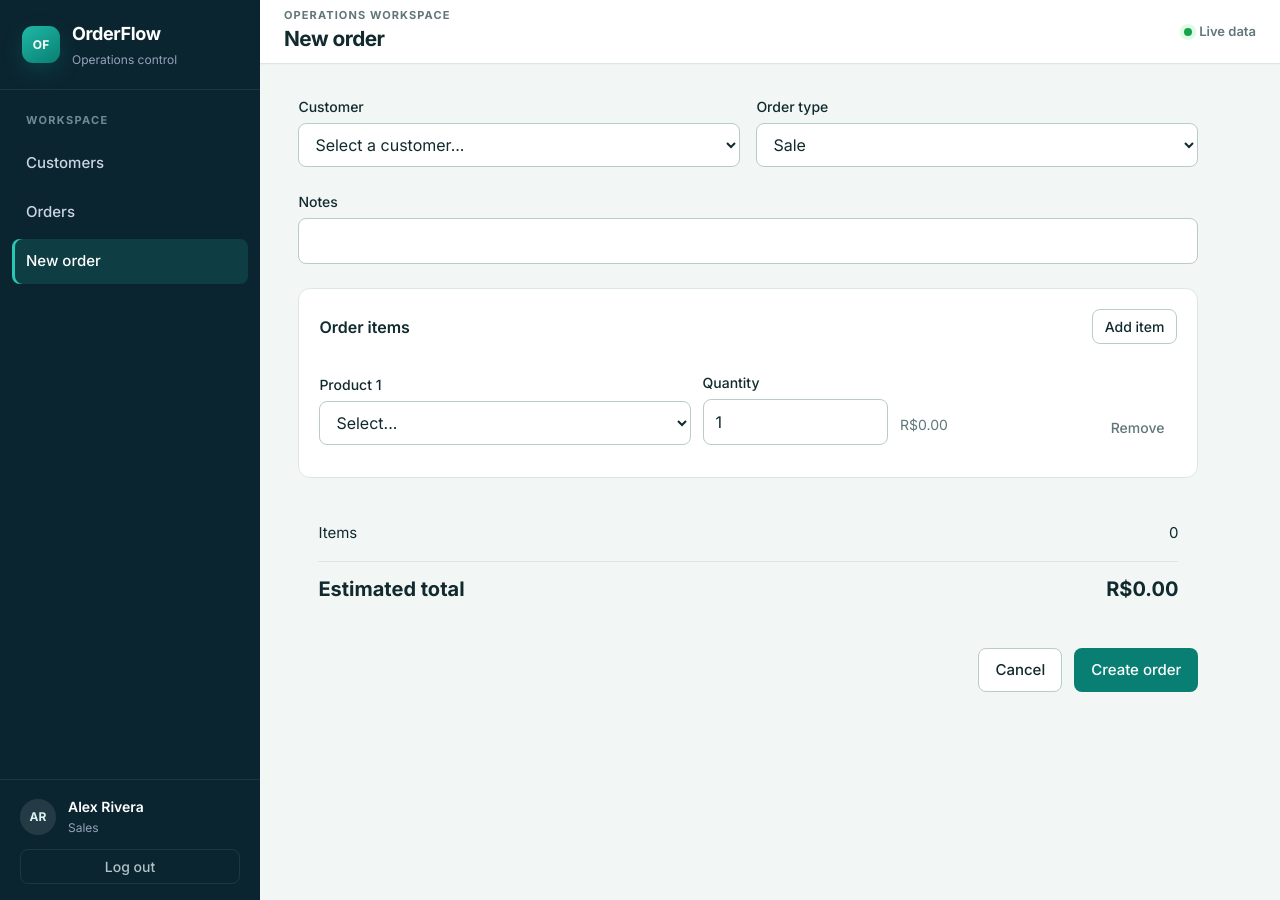
Test case: CreateOrderPage › shows stock warning when quantity exceeds available
Select "Northwind Trading Co." in the dropdown labelled "Customer" at (519, 145), box [298,123,740,167]
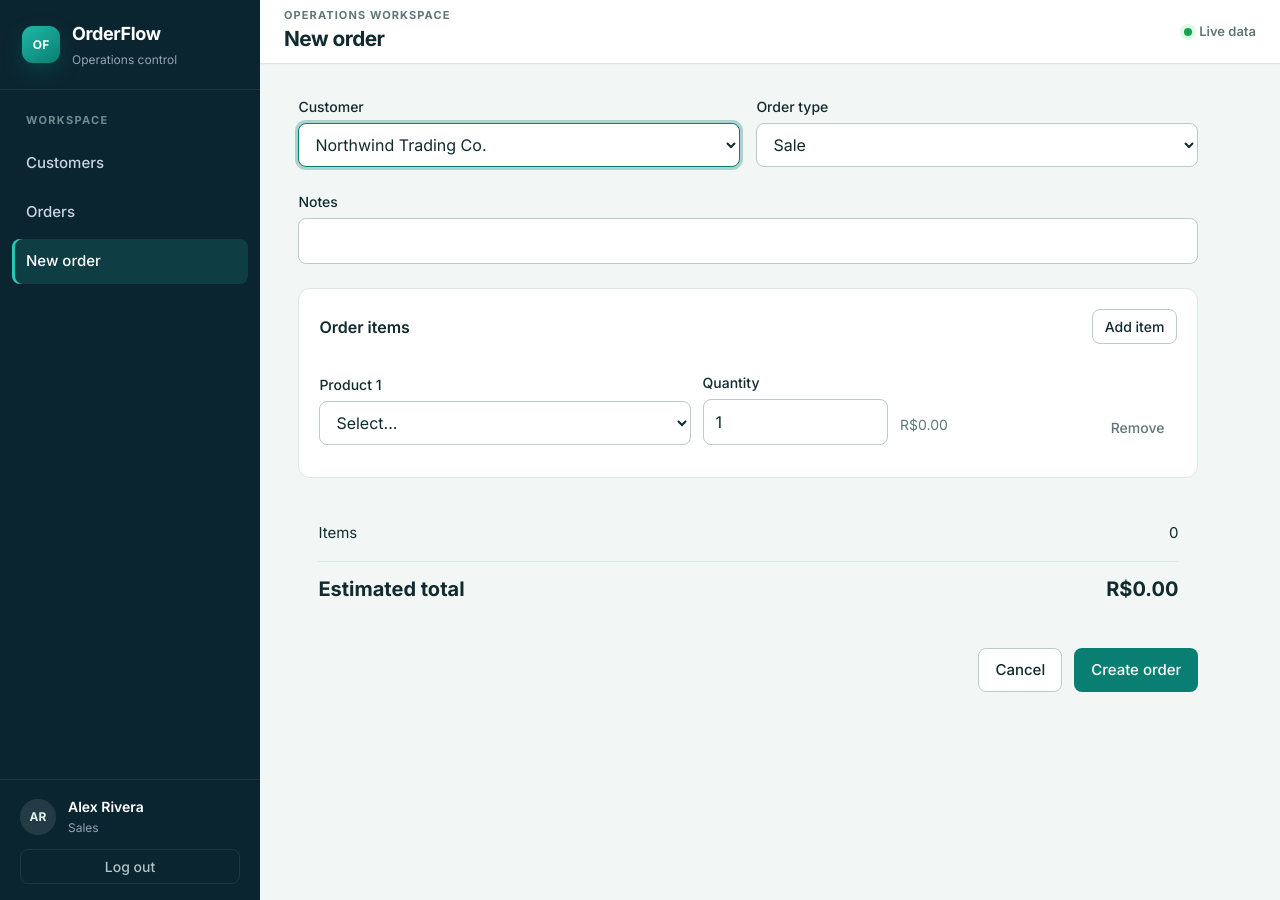
Select "WIDGET-A — Standard Widget A (R$29.99)" in the dropdown labelled "Product 1" at (505, 423), box [319,401,690,445]
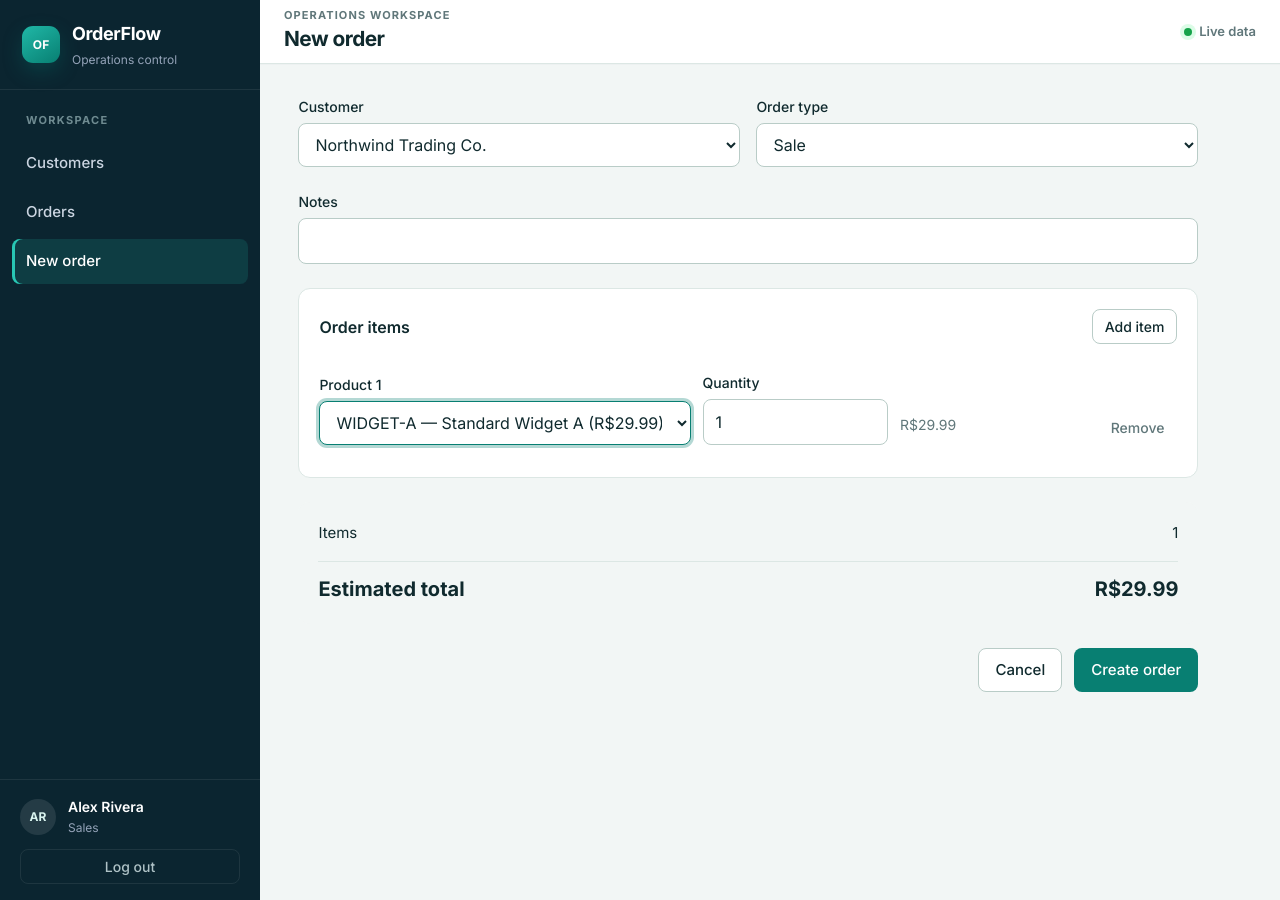
Replace the text in the number field labelled "Quantity" with "10" at (795, 422), box [702,399,888,445]
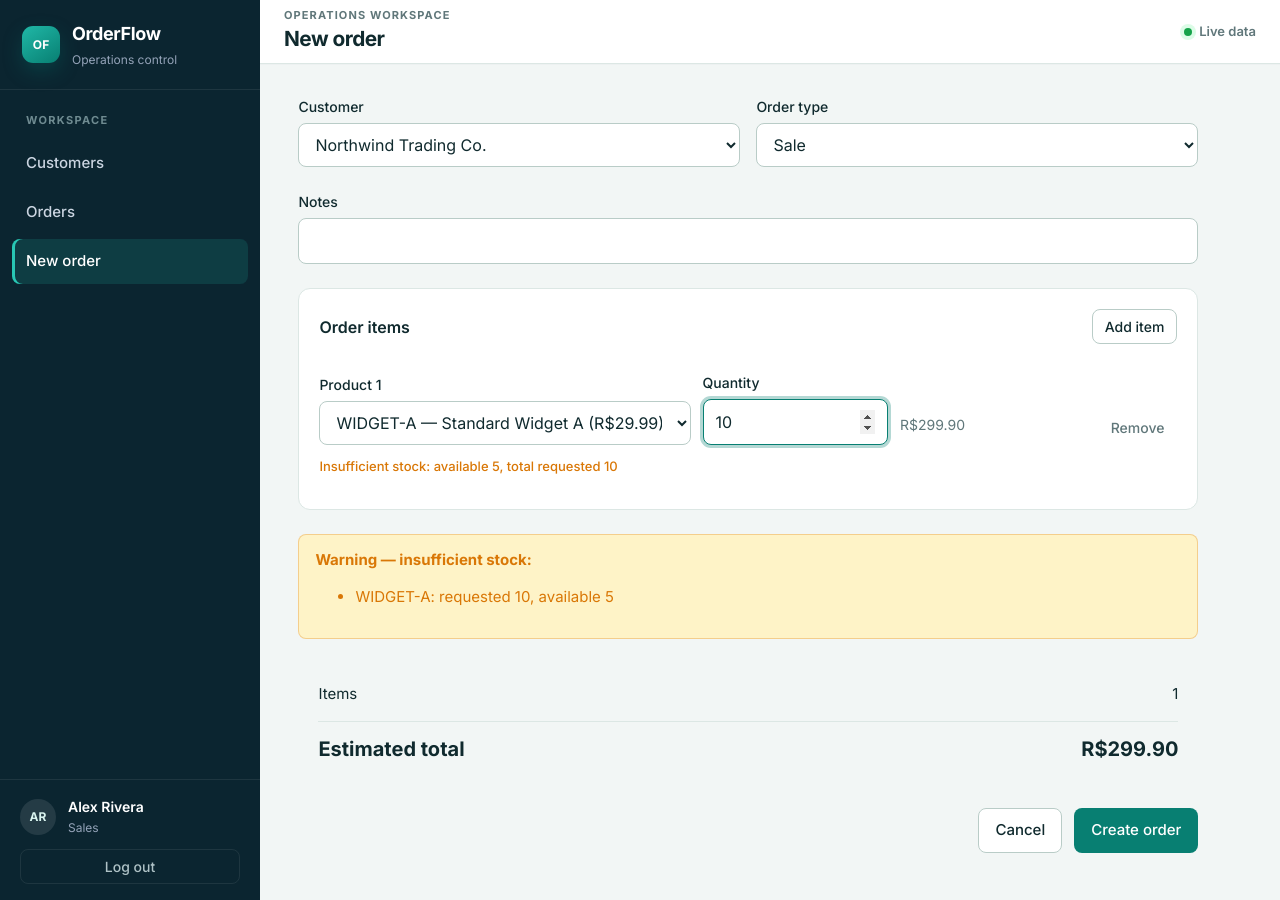
Expected: the text "Insufficient stock: available 5, total requested 10" is shown, [319,458,618,474]
Expected: the text "Warning — insufficient stock:" is shown, [315,550,532,568]
